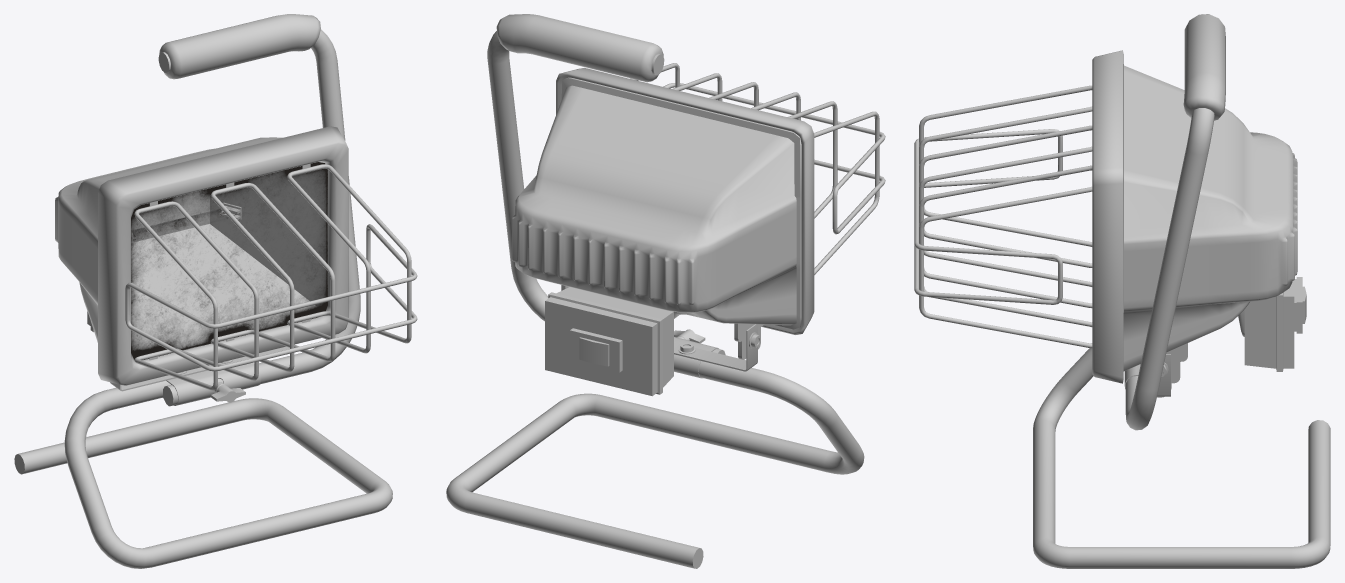
The picture shows the model from 3 angles, left to right: view 1: azimuth 30°, elevation 25°; view 2: azimuth 150°, elevation 25°; view 3: azimuth 270°, elevation 25°; orthographic projection. The views are drawn at different scales.
Visible parts, largest first — view 1: WorkLight_Body_0, WorkLight_Foot_1, WorkLight_Handle_2; view 2: WorkLight_Body_0, WorkLight_Foot_1, WorkLight_Handle_2; view 3: WorkLight_Body_0, WorkLight_Foot_1, WorkLight_Handle_2.
Part boxes in pixels (<box>): WorkLight_Body_0: <box>55,126,417,405</box>; WorkLight_Foot_1: <box>14,381,392,568</box>; WorkLight_Handle_2: <box>158,14,360,406</box>; WorkLight_Body_0: <box>512,63,885,396</box>; WorkLight_Foot_1: <box>446,361,864,568</box>; WorkLight_Handle_2: <box>487,14,725,355</box>; WorkLight_Body_0: <box>914,50,1306,396</box>; WorkLight_Foot_1: <box>1033,348,1330,568</box>; WorkLight_Handle_2: <box>1125,14,1225,430</box>.
Size of the model in its own units: 0.2393 by 0.3365 by 0.2655.
